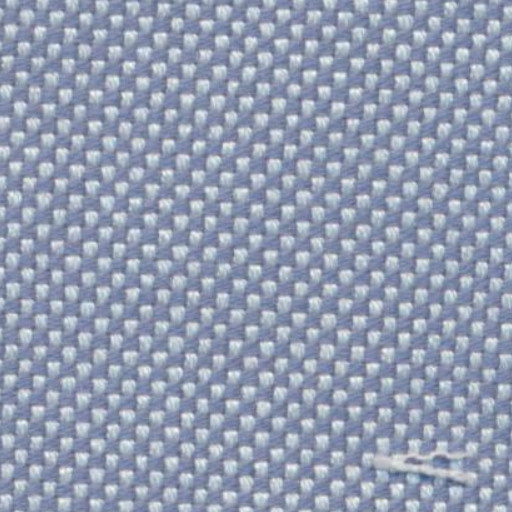DuanSha: (346, 418, 488, 494)
